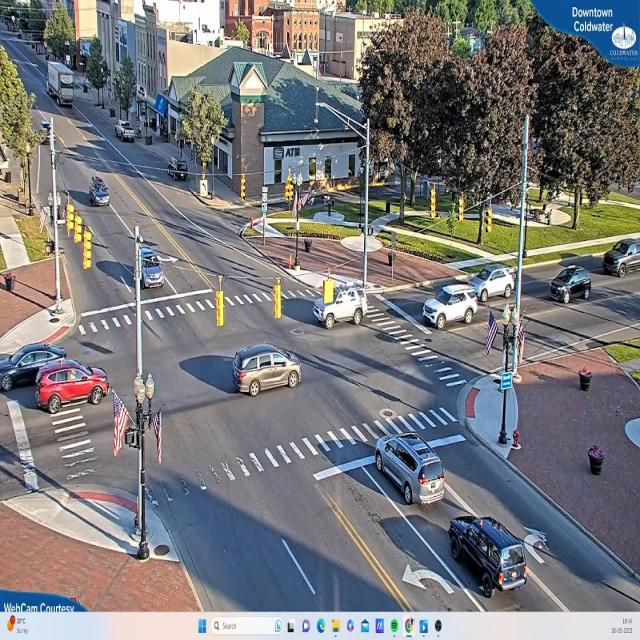car: (449, 514, 532, 594), (374, 433, 446, 506), (233, 343, 304, 398), (35, 364, 109, 415), (2, 345, 69, 394), (424, 287, 480, 329), (314, 290, 366, 328), (473, 267, 516, 304), (550, 268, 594, 304), (602, 238, 639, 278), (142, 245, 166, 288), (90, 180, 110, 206), (117, 120, 138, 143)
truck: (46, 61, 75, 108)
